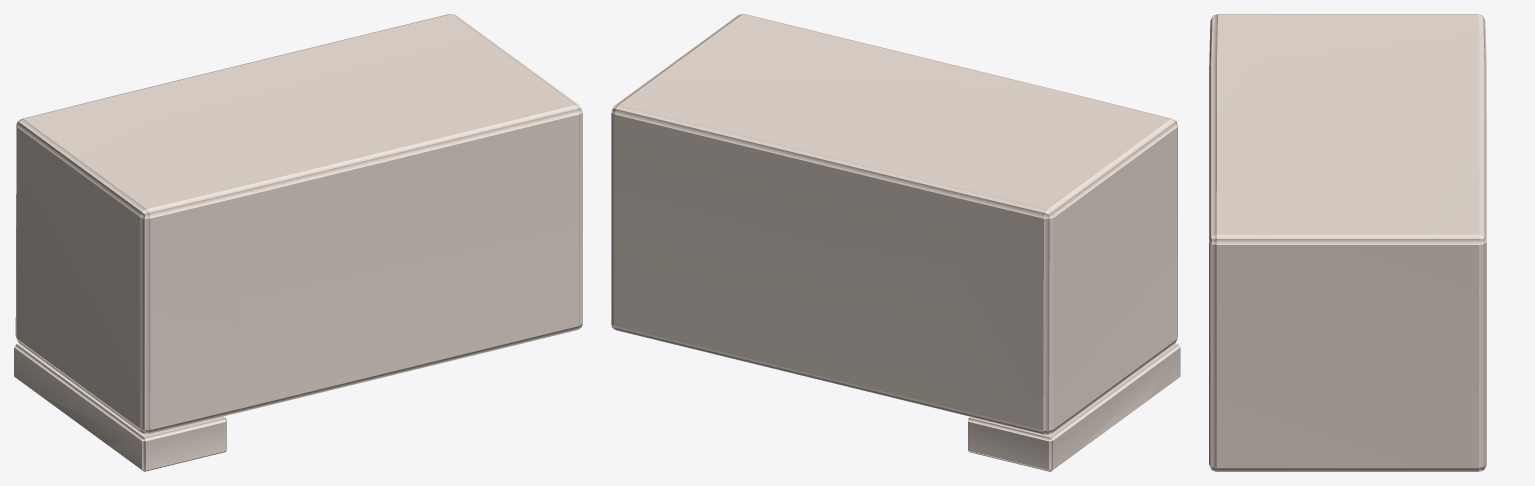
Rendered from BodymeshMicrowaveA3_0_GeomSubset_0.obj.
3 renders of one model, left to right at view 1: azimuth 30°, elevation 25°; view 2: azimuth 150°, elevation 25°; view 3: azimuth 270°, elevation 25°, orthographic. The views are drawn at different scales.
Visible parts, largest first — view 1: BodymeshMicrowaveA3_0_GeomSubset_0; view 2: BodymeshMicrowaveA3_0_GeomSubset_0; view 3: BodymeshMicrowaveA3_0_GeomSubset_0.
Boxes of the visible parts, <box> form: BodymeshMicrowaveA3_0_GeomSubset_0: <box>14,14,582,471</box>; BodymeshMicrowaveA3_0_GeomSubset_0: <box>611,14,1180,471</box>; BodymeshMicrowaveA3_0_GeomSubset_0: <box>1209,14,1486,471</box>.
Size of the model in its own units: 0.6059 by 0.3403 by 0.3512.
